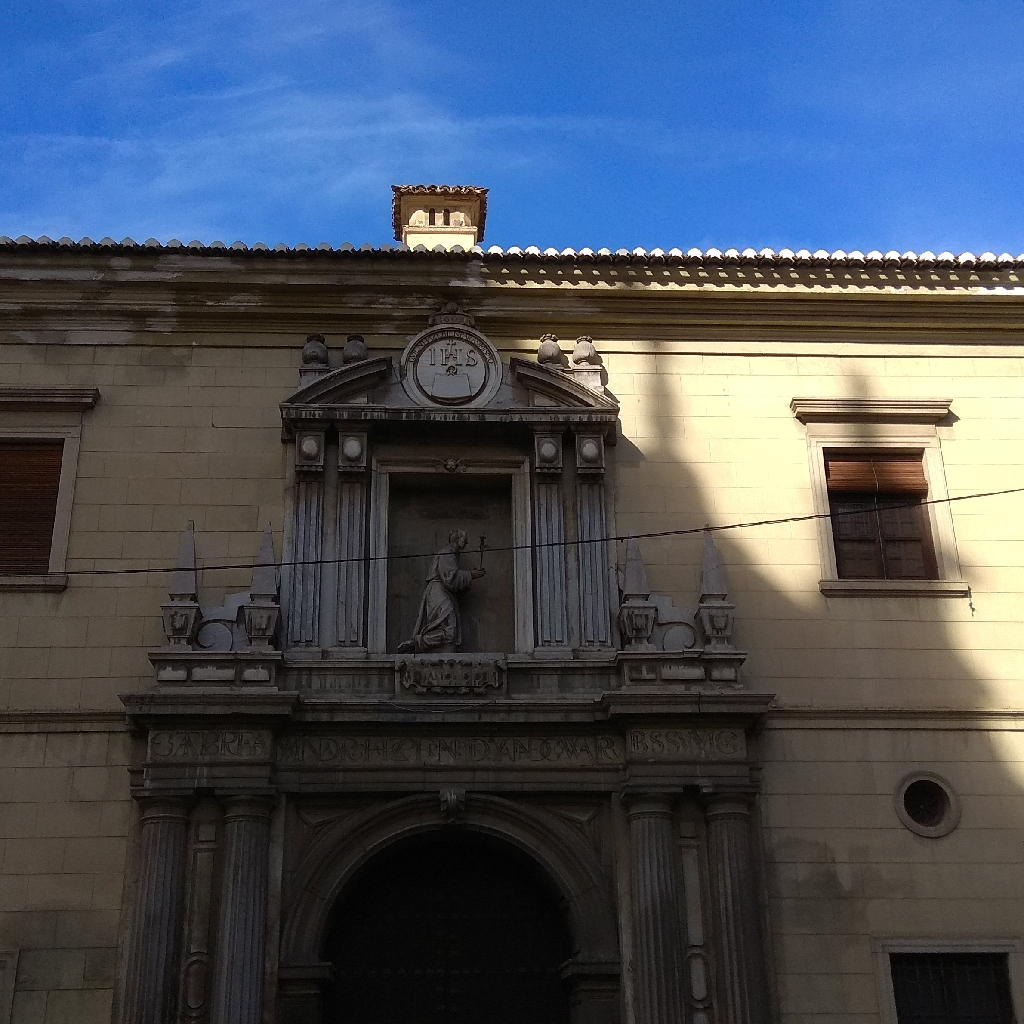arco-medio-punto: (298, 813, 596, 997)
fronton-partido: (280, 352, 617, 425)
ojo-de-buey: (892, 770, 965, 839)
vano-adintelado: (364, 448, 543, 661), (808, 415, 963, 586), (1, 404, 87, 580)
